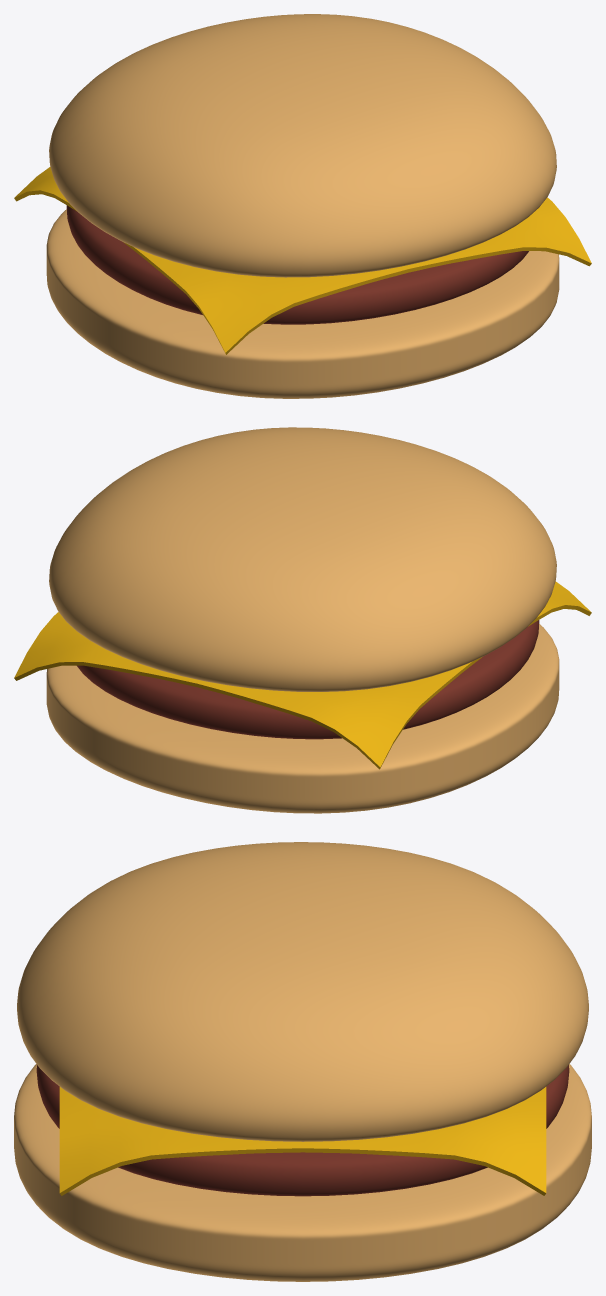
Rendered from hamburger.glb.
3 renders of one model, top to bottom at view 1: azimuth 30°, elevation 25°; view 2: azimuth 150°, elevation 25°; view 3: azimuth 270°, elevation 25°, orthographic. The views are drawn at different scales.
Visible parts, largest first — view 1: Cube.002, Cube, Plane, Cube.001; view 2: Cube.002, Cube, Plane, Cube.001; view 3: Cube.002, Cube, Plane, Cube.001.
Boxes of the visible parts, x1=… form: Cube.002: x1=49, y1=14, x2=556, y2=277; Cube: x1=46, y1=209, x2=559, y2=398; Plane: x1=14, y1=167, x2=591, y2=354; Cube.001: x1=66, y1=205, x2=528, y2=324; Cube.002: x1=49, y1=427, x2=556, y2=691; Cube: x1=46, y1=624, x2=559, y2=813; Plane: x1=14, y1=581, x2=591, y2=769; Cube.001: x1=77, y1=620, x2=539, y2=739; Cube.002: x1=17, y1=842, x2=588, y2=1141; Cube: x1=14, y1=1064, x2=591, y2=1281; Plane: x1=59, y1=1087, x2=546, y2=1195; Cube.001: x1=36, y1=1065, x2=569, y2=1196.
Size of the model in its own units: 9.19 by 5.02 by 9.19.
